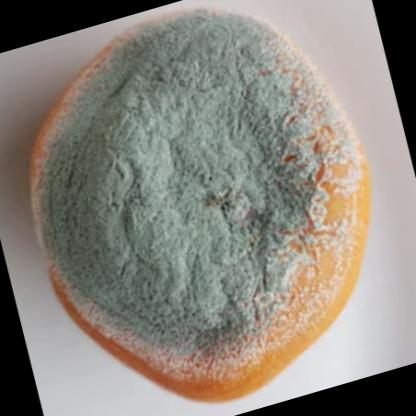rotten: (37, 11, 371, 406)
